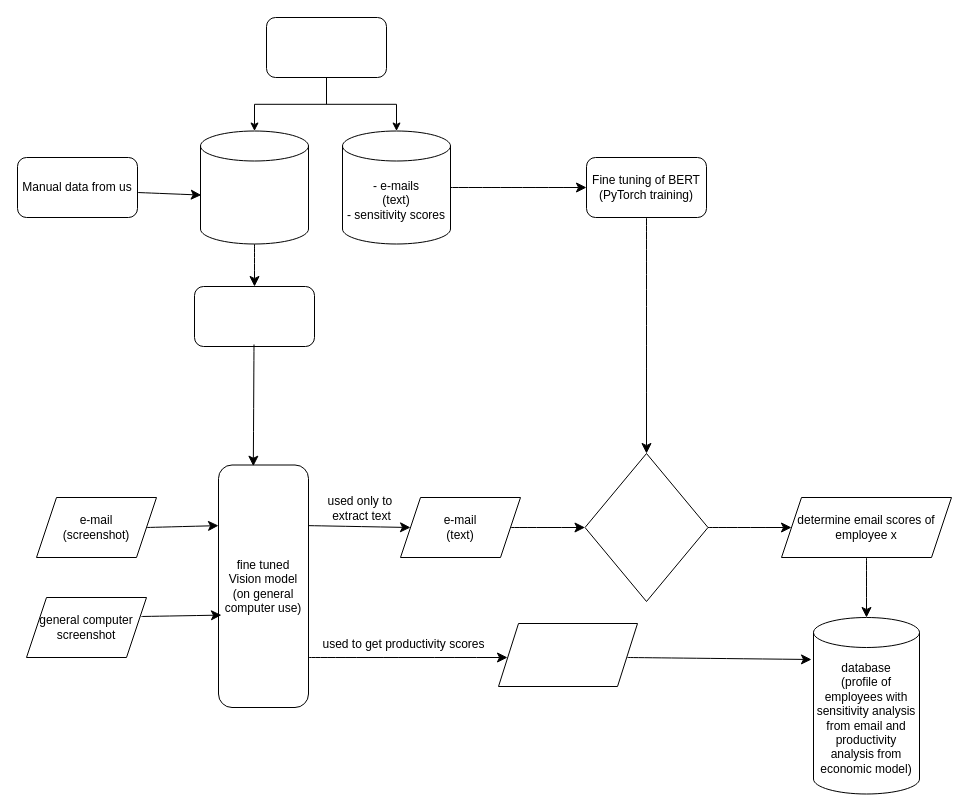
The diagram is 969 pixels wide and 812 high, and some of its shapes have lost their labels. Each missing label, with the box of its shape:
- screenshot best practices computer use: (200, 130, 308, 244)
determine weekly productivity score of employee x: (498, 622, 638, 686)
Fine tuning of vision model with unsloth notebook: (194, 286, 314, 346)
fine-tuned BERT: (584, 452, 708, 602)
Gen AI (deepseek): (266, 16, 386, 78)
